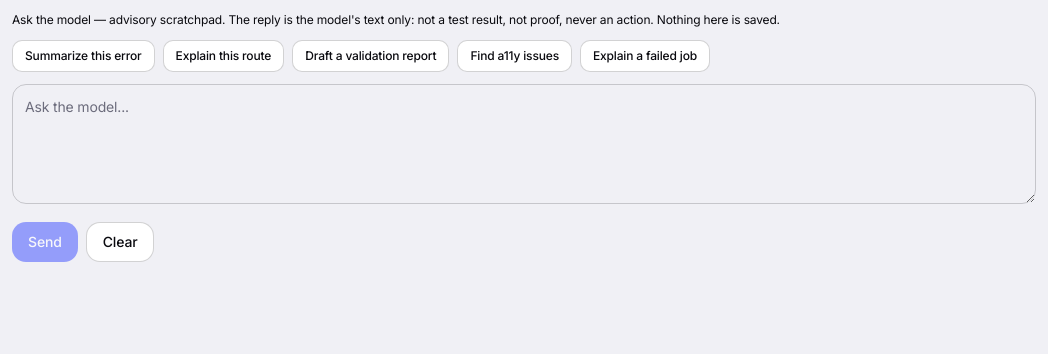
AiScratchpad — 9.10 backend wiring › posts to /api/ai/chat with the prompt and renders the reply as text
Type "hi" into the text box named "prompt" at point(524, 144), box [12,84,1036,204]
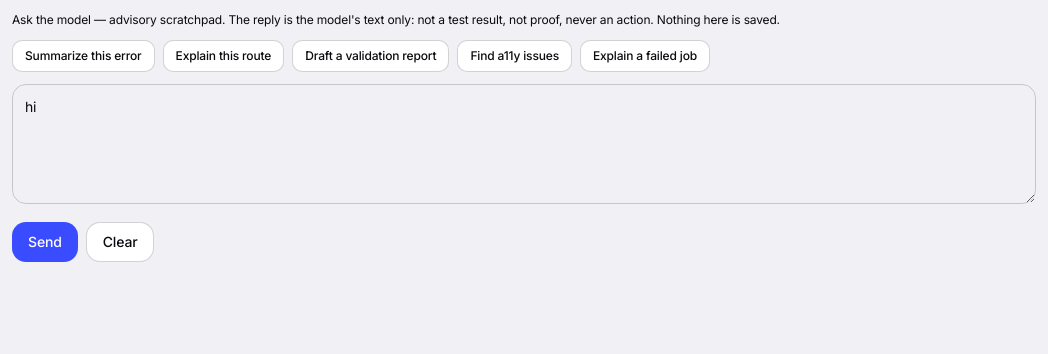
Click the button "Send" at point(45, 242), box [12,222,78,262]
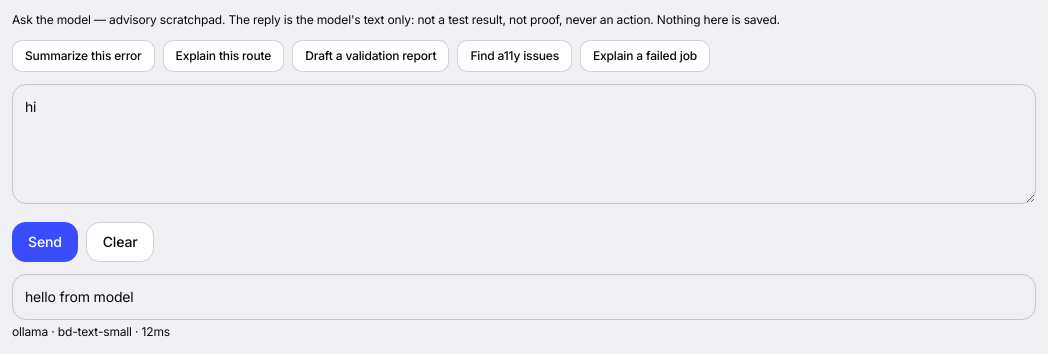
Now the text with test id "ai-response" reads "hello from model", box [25,288,134,305]
